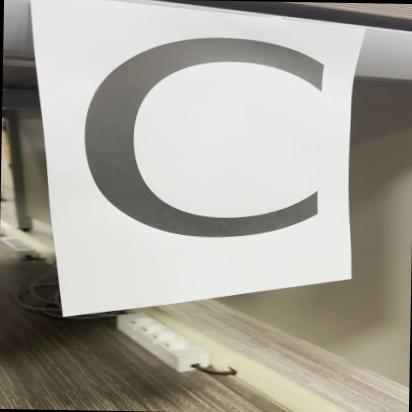seat: (63, 9, 350, 282)
